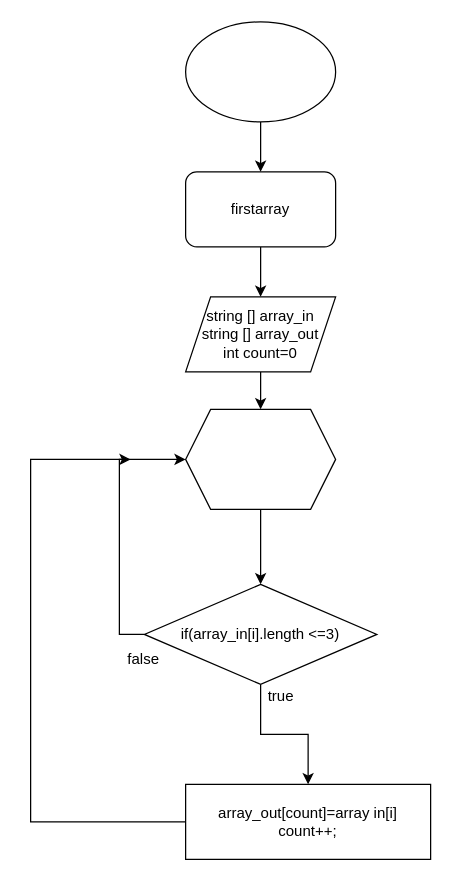
Some shapes in this 453 by 881 pixel diagram are drawn without their labels. The shapes that lost their labels are listed below. From the top down, each one's centre as x and y in pixels, then its label:
At point (260, 71): "start".
At point (260, 458): "for( i=0; i<array_in.length; i++)".
